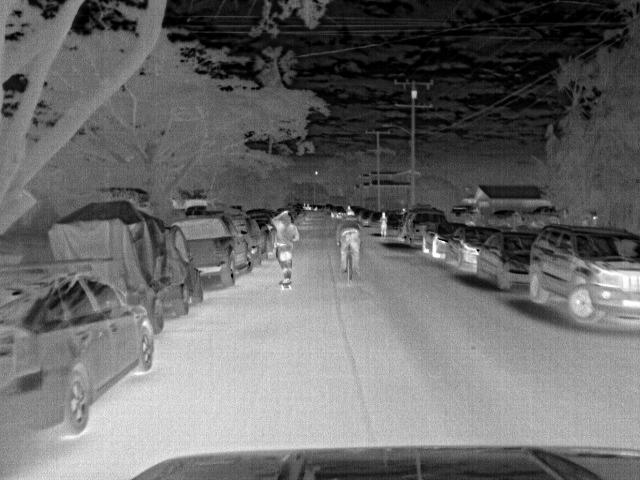car: (2, 268, 160, 444), (47, 201, 204, 329), (524, 225, 639, 331), (168, 211, 245, 286), (469, 230, 535, 290), (445, 226, 498, 273), (222, 212, 269, 263), (407, 210, 445, 248), (430, 221, 465, 255), (488, 210, 526, 230), (186, 204, 210, 220), (387, 211, 404, 233), (330, 204, 351, 220), (368, 210, 384, 228)
person: (268, 207, 299, 278), (338, 208, 359, 273), (375, 211, 389, 236)
